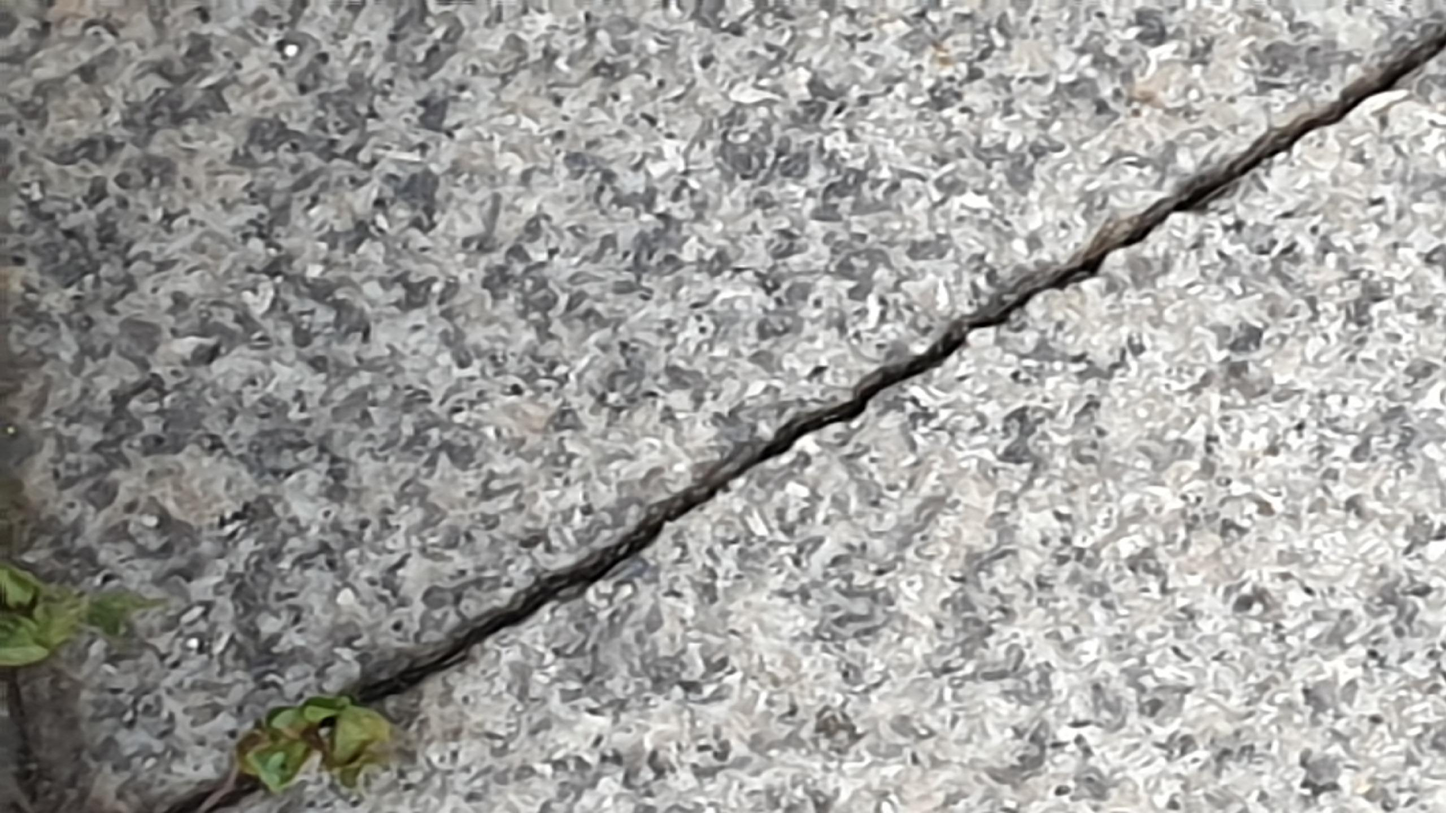crack: (348, 29, 1442, 713)
